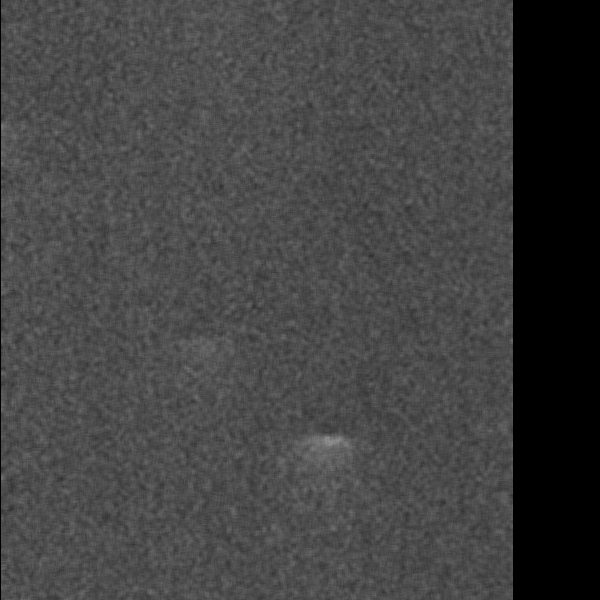spark: (299, 430, 358, 464)
